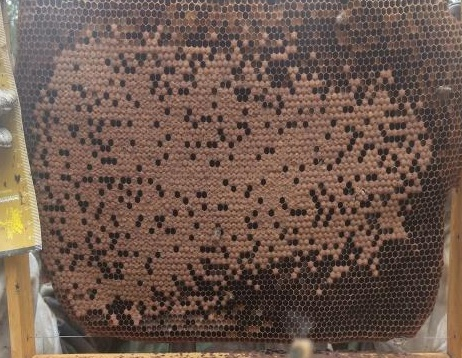cria: (28, 19, 432, 328)
